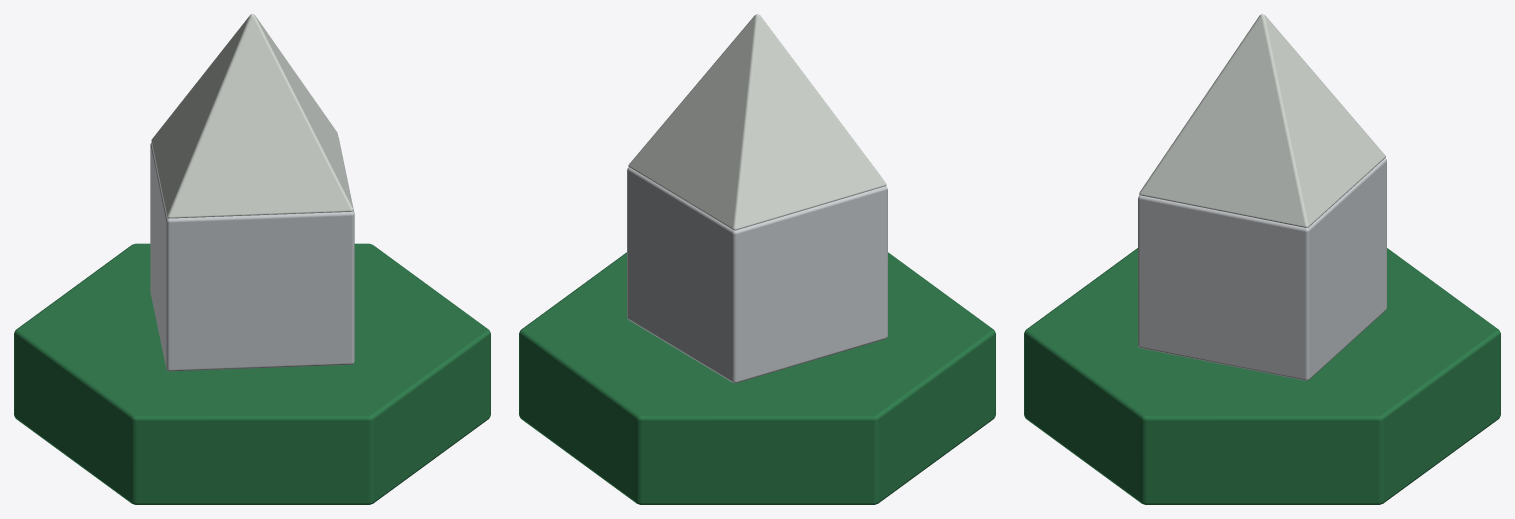
File: assembly.glb
3 renders of one model, left to right at view 1: azimuth 30°, elevation 25°; view 2: azimuth 150°, elevation 25°; view 3: azimuth 270°, elevation 25°, orthographic.
Visible parts, largest first — view 1: HexBase, Block, Pyramid; view 2: HexBase, Block, Pyramid; view 3: HexBase, Block, Pyramid.
Boxes of the visible parts, box(x1,y1,x2,y2) form: HexBase: box(14, 243, 490, 504); Block: box(150, 138, 354, 371); Pyramid: box(151, 14, 353, 218); HexBase: box(519, 252, 995, 504); Block: box(627, 167, 887, 383); Pyramid: box(628, 14, 886, 230); HexBase: box(1024, 248, 1500, 504); Block: box(1138, 158, 1386, 380); Pyramid: box(1139, 14, 1385, 227).
Bounding box in the file's own units: 0.0589 × 0.0634 × 0.0677.
